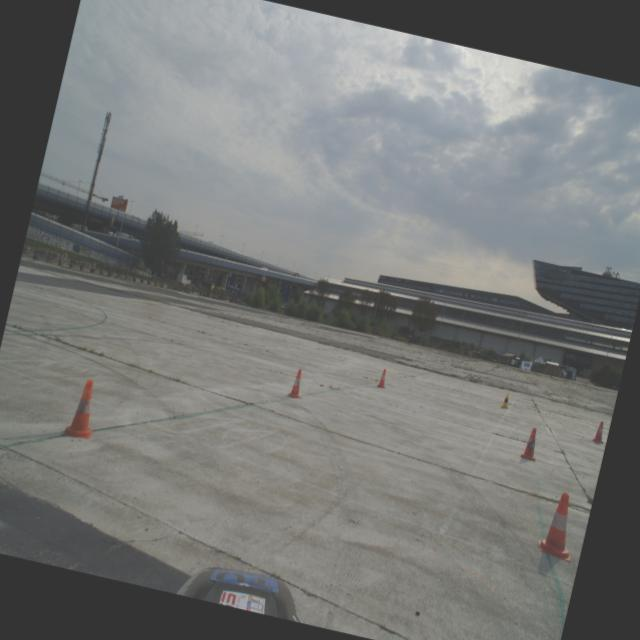orange_cone: (535, 489, 585, 562), (60, 376, 104, 442), (284, 366, 308, 401), (519, 426, 542, 462), (590, 419, 610, 444), (375, 367, 390, 389)
yellow_cone: (499, 392, 511, 409)
